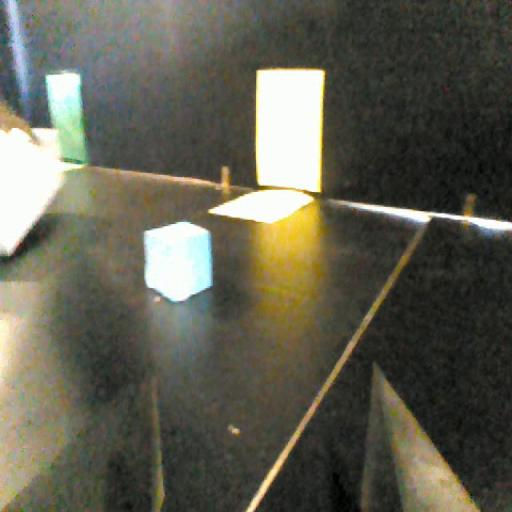cube: (138, 215, 219, 308)
